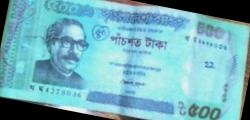500 taka: (4, 0, 241, 118)
